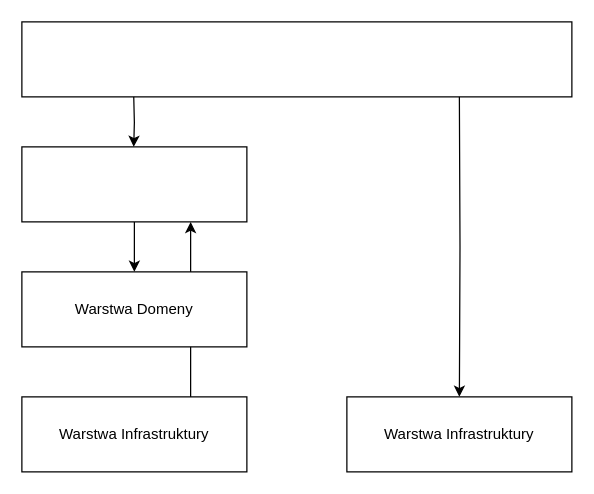
This 594x494 diagram has some shape labels left out. The centre of each missing label's shape, as x and y in pixels:
"Warstwa Aplikacji" goes at (x=134, y=184).
"Warstwa frameworka (widoki)" goes at (x=296, y=59).
